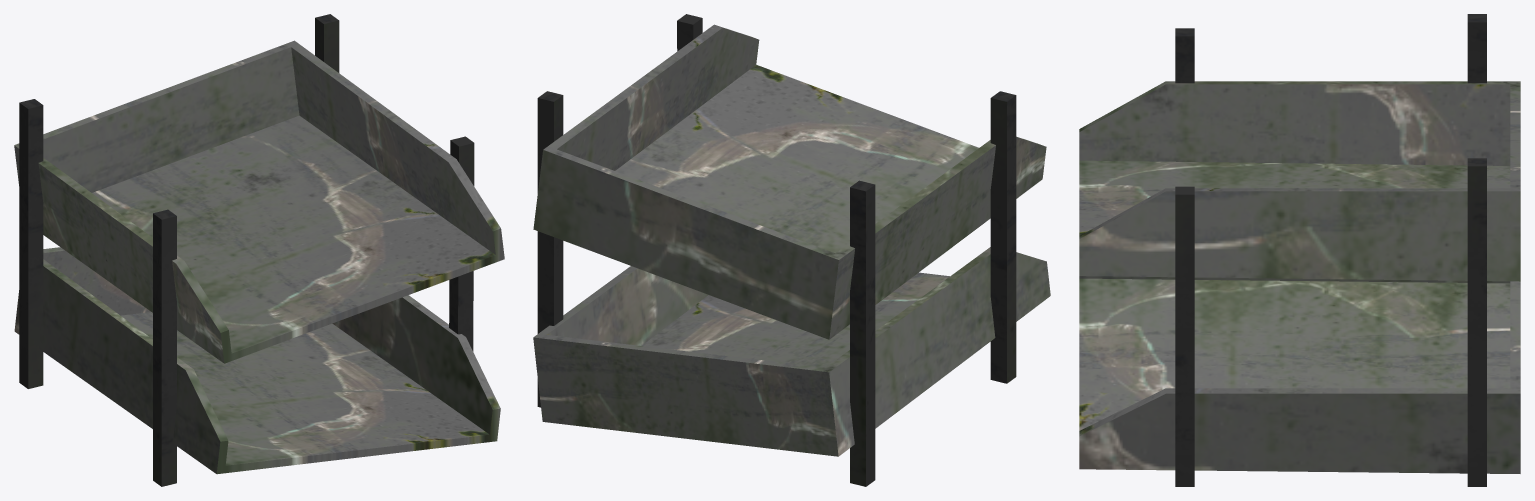
Rendered from paper_holder.fbx.
The picture shows the model from 3 angles, left to right: view 1: azimuth 30°, elevation 25°; view 2: azimuth 150°, elevation 25°; view 3: azimuth 270°, elevation 25°; orthographic projection. The views are drawn at different scales.
Parts seen in each view (by area): view 1: paper_holder; view 2: paper_holder; view 3: paper_holder.
Part boxes in pixels (<box>): paper_holder: <box>14,14,504,486</box>; paper_holder: <box>533,14,1050,486</box>; paper_holder: <box>1079,14,1520,486</box>.
Bounding box in the file's own units: 0.3174 × 0.284 × 0.3545.
